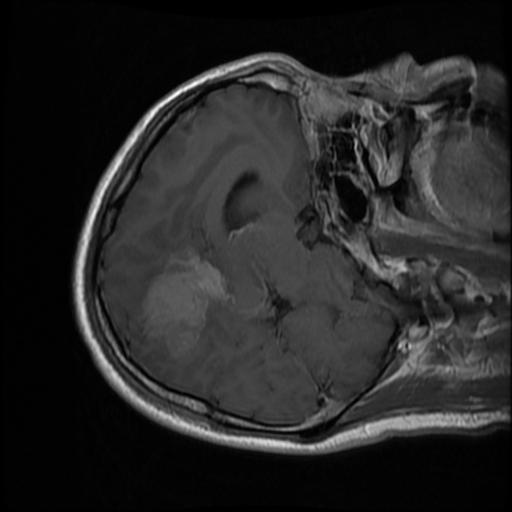meningioma: (143, 246, 225, 357)
